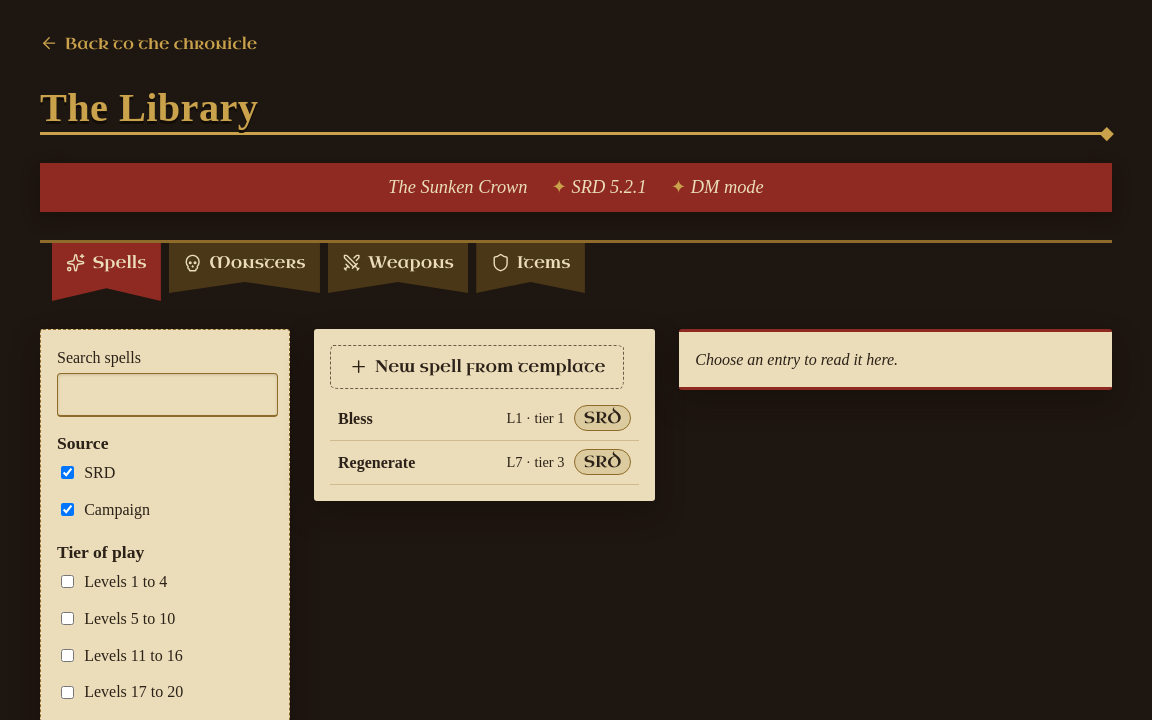
Scenario: the items shelf › holds armour for now
Click the tab "Items" at (531, 268), box [476,243,585,293]
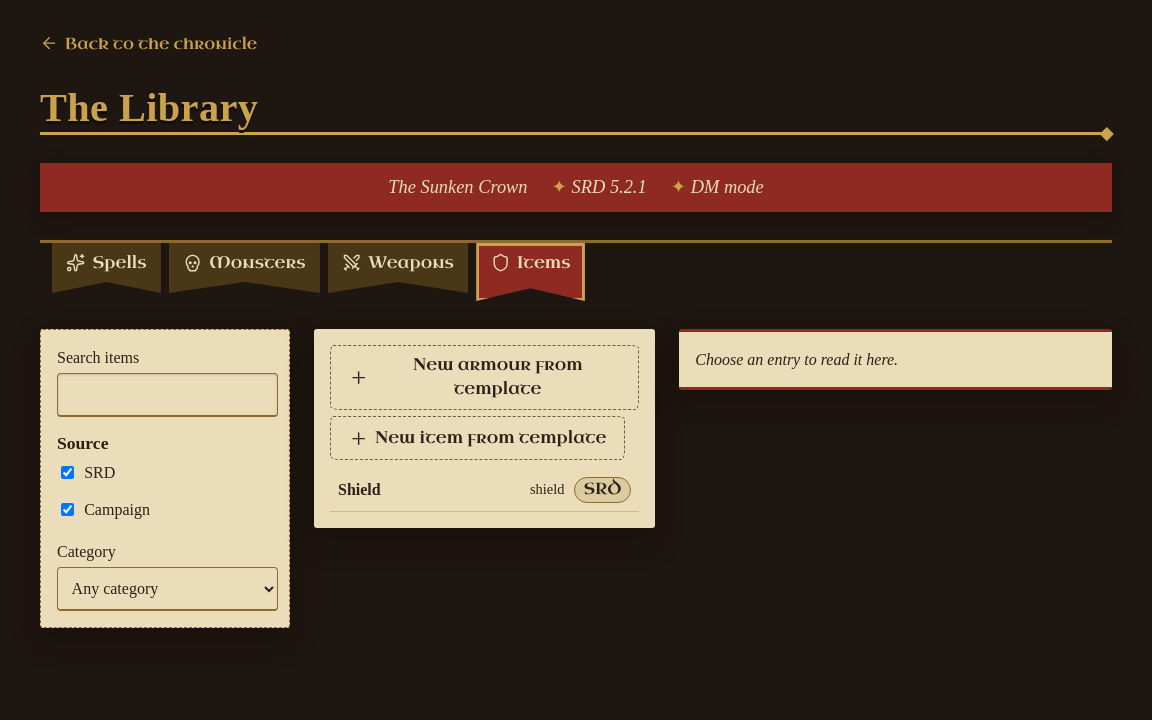
Click the button "Shield shield SRD" at (359, 490), box [330,468,639,512]
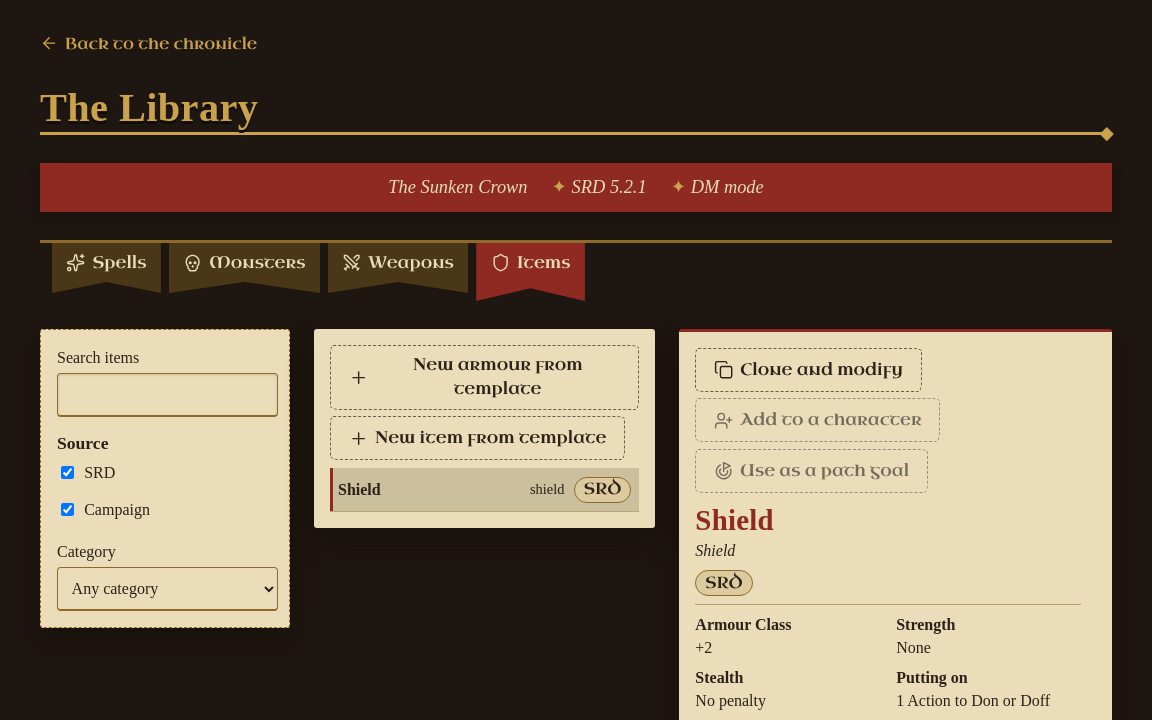
Now the text "+2" is shown, box [695,639,712,656]
